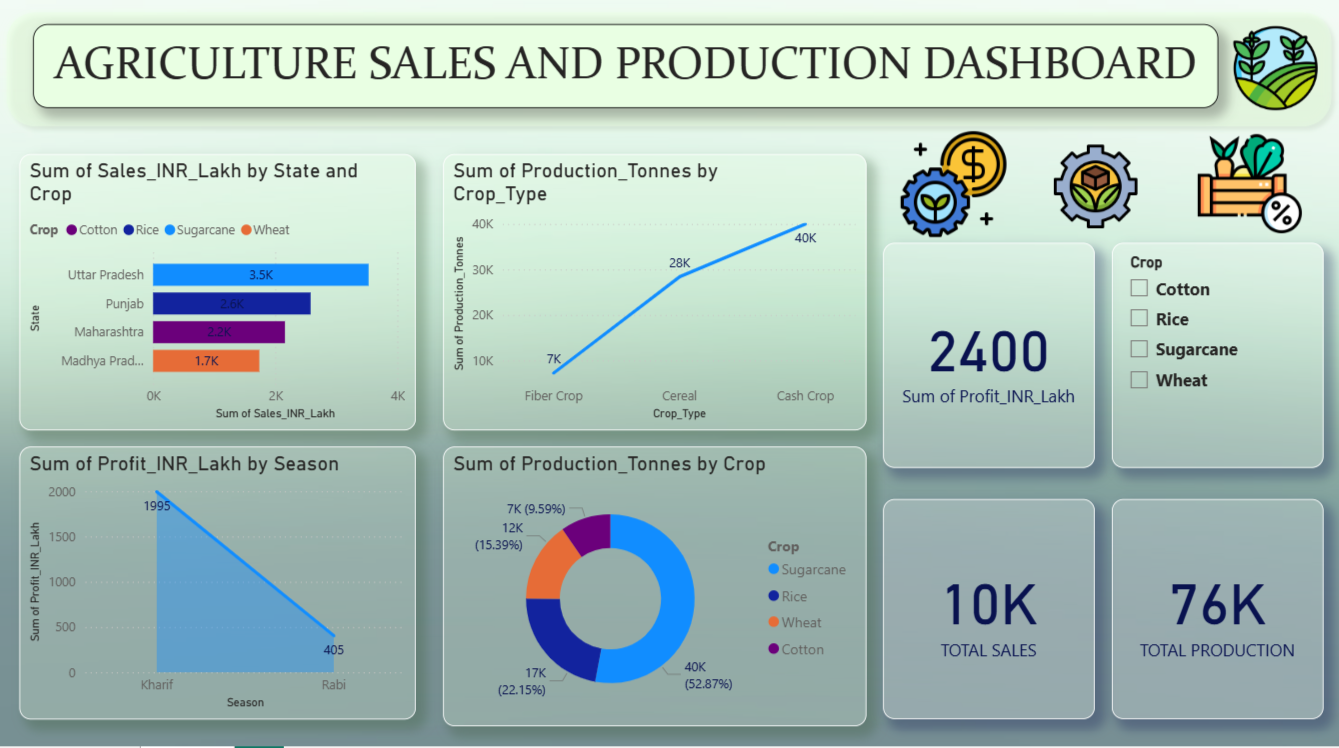

The page's visual inventory and layout, read from the dashboard file:
{"tool":"powerbi","page":{"name":"Page 1","canvas":[1280,720],"ordinal":0},"visuals":[{"type":"barChart","fields":{"Category":["Agriculture_Data.State"],"Y":["Sum(Agriculture_Data.Sales_INR_Lakh)"],"Series":["Agriculture_Data.Crop"]},"box":[21.1,156.1,377.4,263.5],"z":0},{"type":"lineChart","fields":{"Category":["Agriculture_Data.Crop_Type"],"Y":["Sum(Agriculture_Data.Production_Tonnes)"]},"box":[424.5,156.1,403.4,263.5],"z":1000},{"type":"areaChart","fields":{"Category":["Agriculture_Data.Season"],"Y":["Sum(Agriculture_Data.Profit_INR_Lakh)"]},"box":[21.1,434.3,377.4,260.2],"z":2000},{"type":"donutChart","fields":{"Category":["Agriculture_Data.Crop"],"Y":["Sum(Agriculture_Data.Production_Tonnes)"]},"box":[424.5,434.3,403.4,266.8],"z":3000},{"type":"card","fields":{"Values":["Sum(Agriculture_Data.Profit_INR_Lakh)"]},"box":[844.2,240.7,201.7,214.7],"z":4000},{"type":"card","fields":{"Values":["Agriculture_Data.TOTAL SALES"]},"box":[844.2,484.7,201.7,209.8],"z":5000},{"type":"slicer","fields":{"Values":["Agriculture_Data.Crop"]},"box":[1062.1,240.7,201.7,214.7],"z":6000},{"type":"card","fields":{"Values":["Agriculture_Data.TOTAL PRODUCTION"]},"box":[1062.1,484.7,201.7,209.8],"z":7000},{"type":"shape","box":[0,11.4,1280.1,126.9],"z":8000},{"type":"textbox","box":[34.2,32.5,1128.8,79.7],"z":9000},{"type":"image","box":[1171.1,26,92.7,96],"z":10000},{"type":"image","box":[855.6,128.5,110.6,112.2],"z":11000},{"type":"image","box":[997.1,138.3,97.6,97.6],"z":12000},{"type":"image","box":[1138.6,130.1,110.6,109],"z":13000}]}

Visuals, with their boxes in screenshot pixels (x1, y1, x2, y2), scaled from the page's 1280x720 canvas onto the 1339x748 screenshot:
barChart - Agriculture_Data.State x Sum(Agriculture_Data.Sales_INR_Lakh): [22, 162, 417, 436]
lineChart - Agriculture_Data.Crop_Type x Sum(Agriculture_Data.Production_Tonnes): [444, 162, 866, 436]
areaChart - Agriculture_Data.Season x Sum(Agriculture_Data.Profit_INR_Lakh): [22, 451, 417, 722]
donutChart - Agriculture_Data.Crop x Sum(Agriculture_Data.Production_Tonnes): [444, 451, 866, 728]
card - Sum(Agriculture_Data.Profit_INR_Lakh): [883, 250, 1094, 473]
card - Agriculture_Data.TOTAL SALES: [883, 504, 1094, 722]
slicer - Agriculture_Data.Crop: [1111, 250, 1322, 473]
card - Agriculture_Data.TOTAL PRODUCTION: [1111, 504, 1322, 722]
shape: [0, 12, 1338, 144]
textbox: [36, 34, 1217, 117]
image: [1225, 27, 1322, 127]
image: [895, 133, 1011, 250]
image: [1043, 144, 1145, 245]
image: [1191, 135, 1307, 248]
